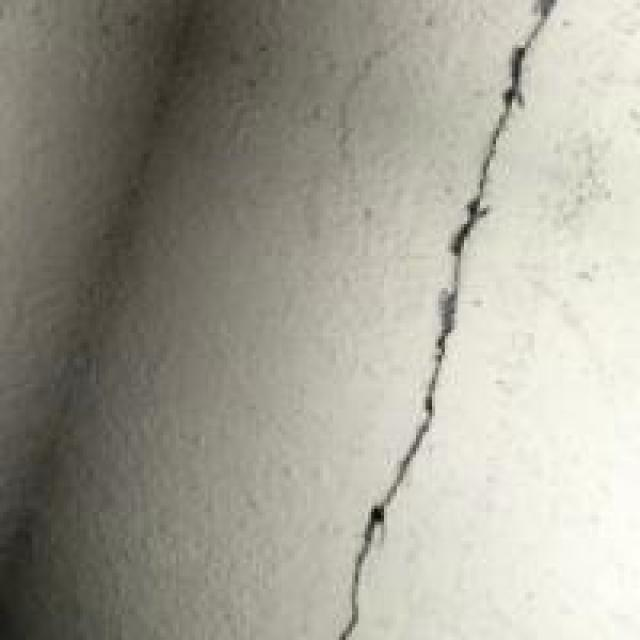crack: (334, 0, 552, 640)
